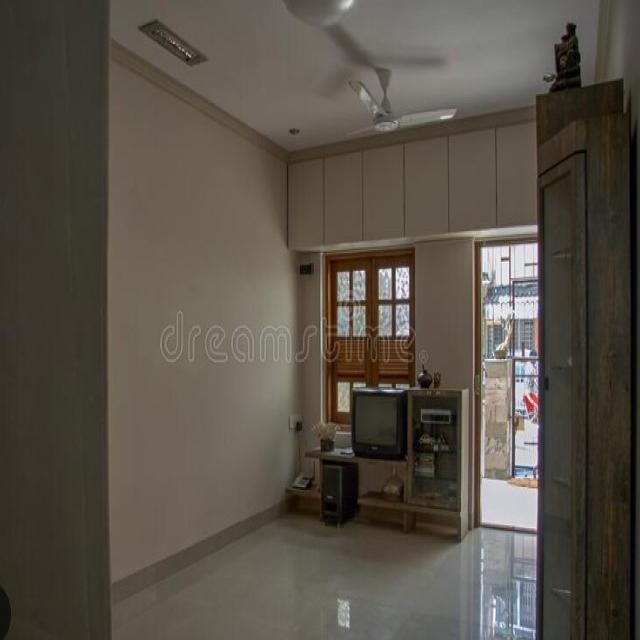Non_Damaged: (8, 5, 604, 640)
